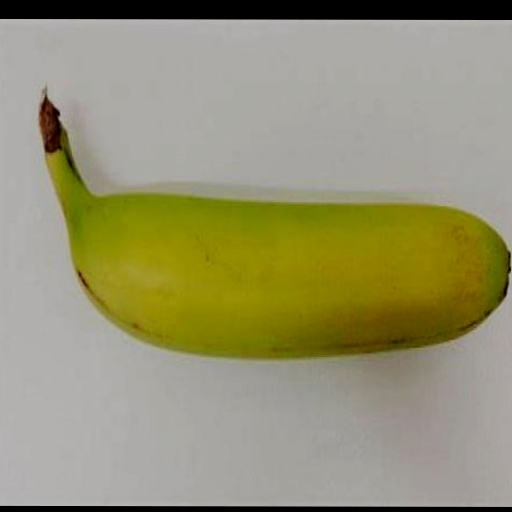fruit: (40, 96, 509, 357)
